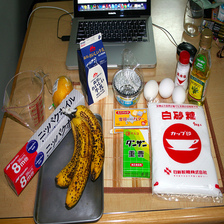laptop: (60, 1, 160, 80)
